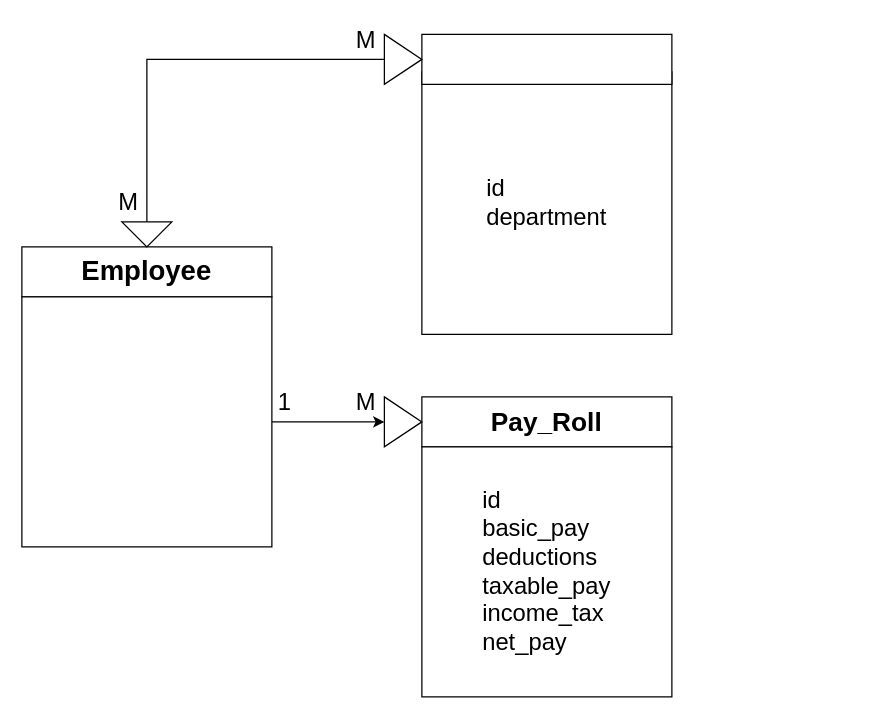
This 894x719 diagram has some shape labels left out. The box of each missing label's shape, as (x1, y1, x2, y2) in pixels:
Department: (421, 33, 672, 84)
id name phone_number address gender start: (21, 296, 272, 547)
